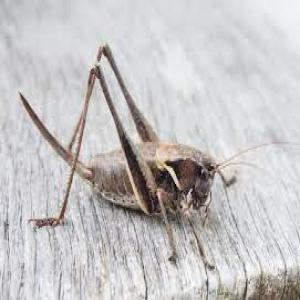locust: (21, 40, 219, 214)
